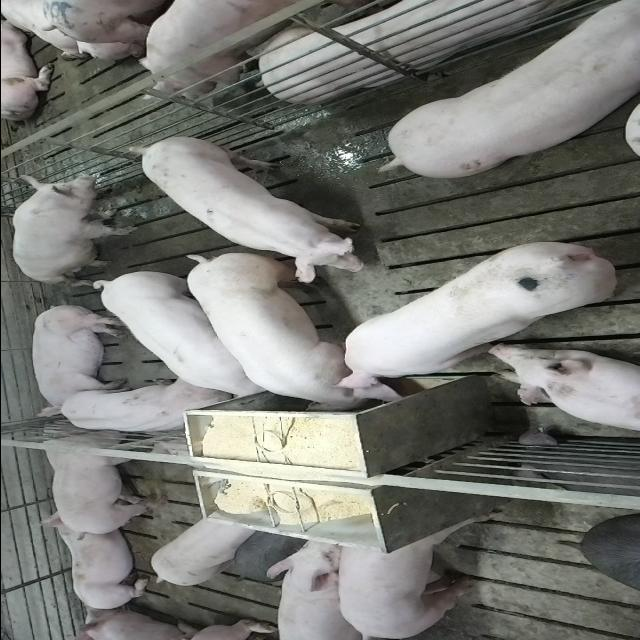Feeding: (332, 240, 620, 398), (178, 254, 391, 420)
Lateral_lying: (253, 0, 597, 102), (28, 302, 128, 418)
Sitting: (8, 173, 138, 285)
Standing: (380, 0, 640, 175), (132, 132, 380, 278), (86, 266, 276, 398), (337, 512, 497, 638), (127, 0, 318, 102), (30, 422, 174, 539), (267, 531, 375, 637), (150, 513, 257, 588)
Sternal_lying: (488, 346, 640, 434), (35, 516, 155, 612), (52, 378, 228, 436)
